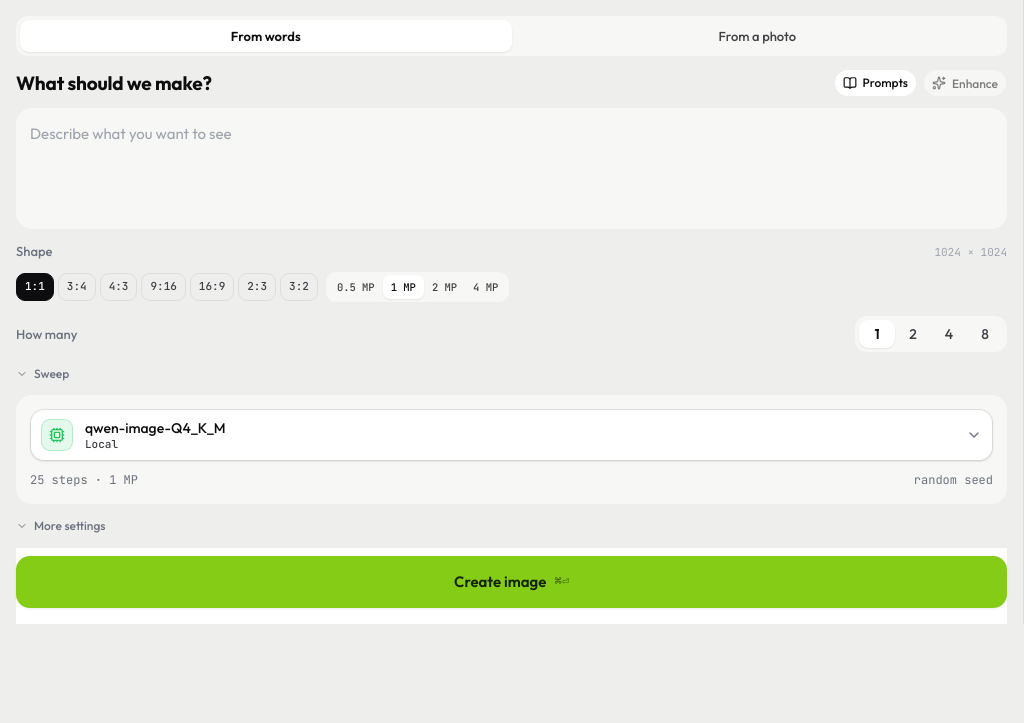
it: Composer › lock-seed: the seed is only editable while locked, and the footer says which mode is on
Expected: the text "random seed" is shown, [914, 471, 993, 490]
Click the button "More settings" at x=61, y=526, box [16, 516, 106, 536]
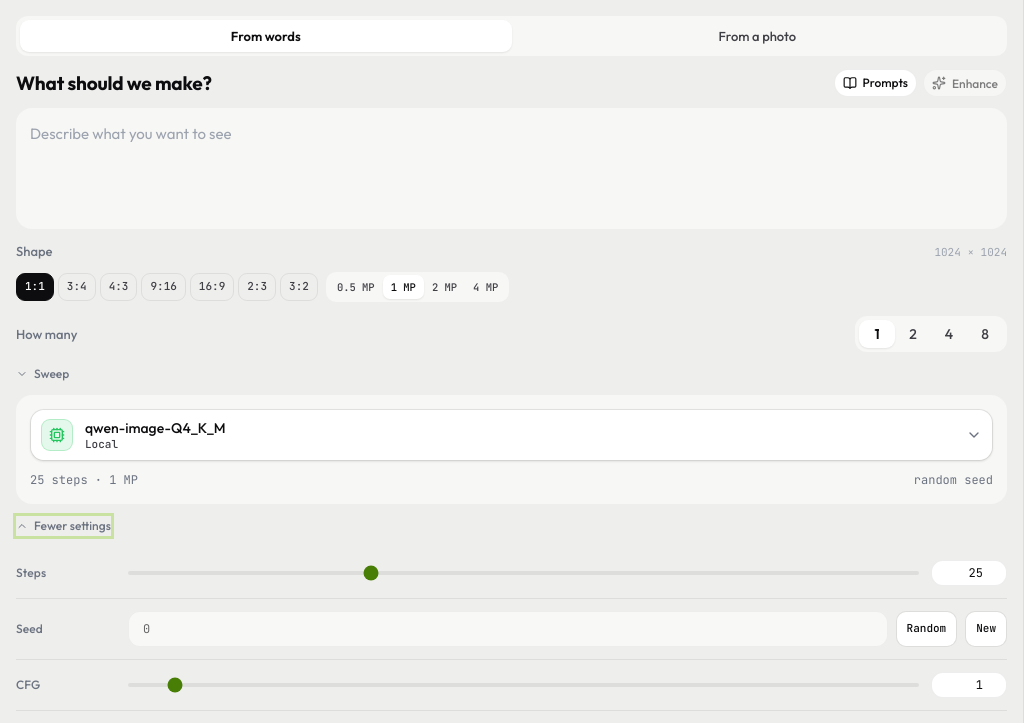
Expected: the number field named "Seed" is disabled, [128, 610, 888, 646]
Click the button "Random" at x=926, y=628, box [896, 610, 957, 646]
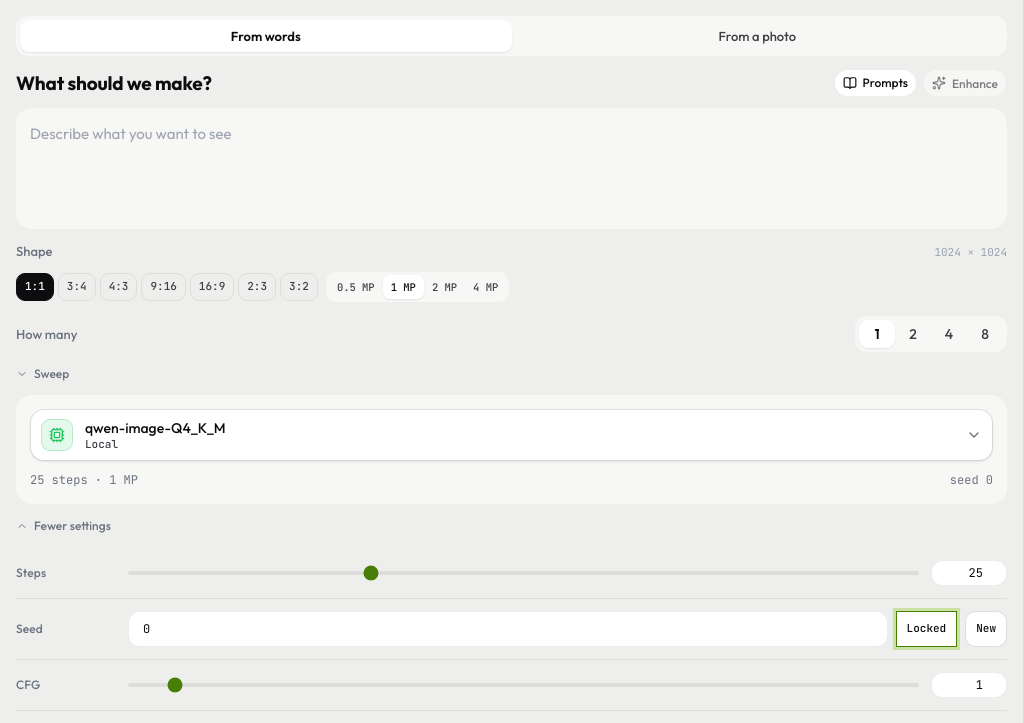
Expected: the number field named "Seed" is enabled, [128, 610, 888, 646]
Expected: the button "Locked" is shown, [896, 610, 957, 646]
Expected: the text "seed 0" is shown, [950, 471, 993, 490]
